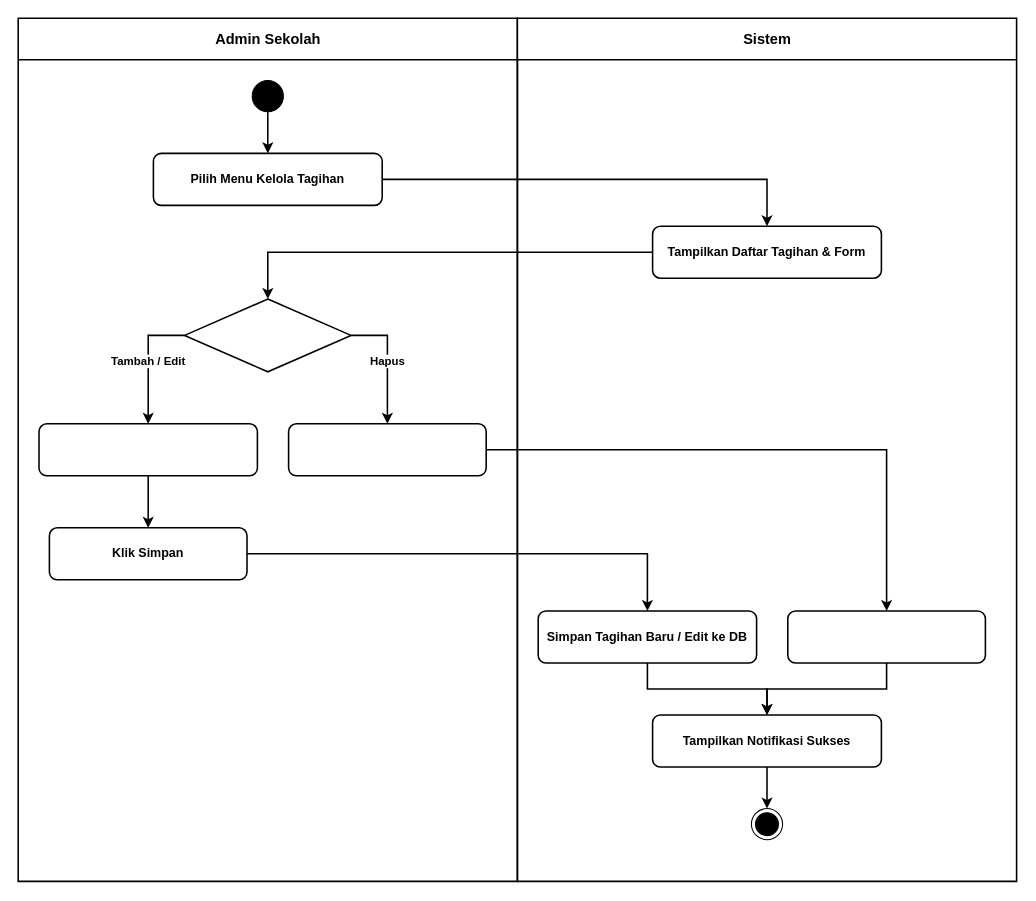
The diagram is 1036 pixels wide and 901 high, and some of its shapes have lost their labels. Here are the shapes that lost their labels. From the top down, the centre of each, then its label:
At point 267,335: "Pilih Aksi".
At point 148,449: "Input Tagihan (Siswa, Kategori, Nominal)".
At point 387,449: "Konfirmasi Hapus Tagihan".
At point 886,636: "Hapus Tagihan dari DB".
